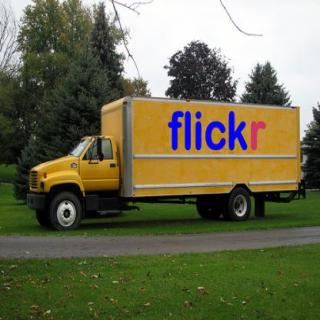Normal_vehicle: (22, 89, 304, 230)
